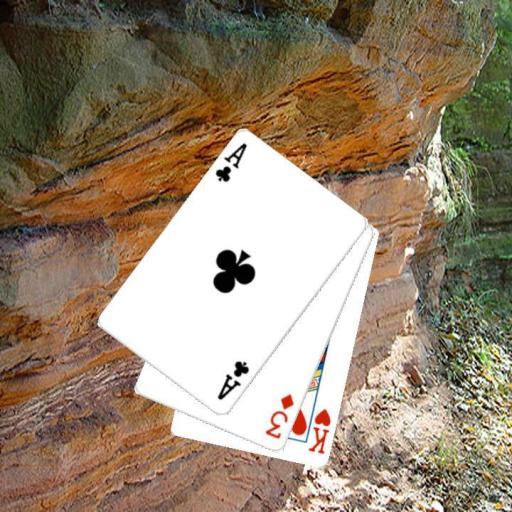3D: (262, 390, 296, 441)
AC: (213, 358, 251, 402), (212, 140, 249, 184)
KH: (305, 405, 333, 456)
